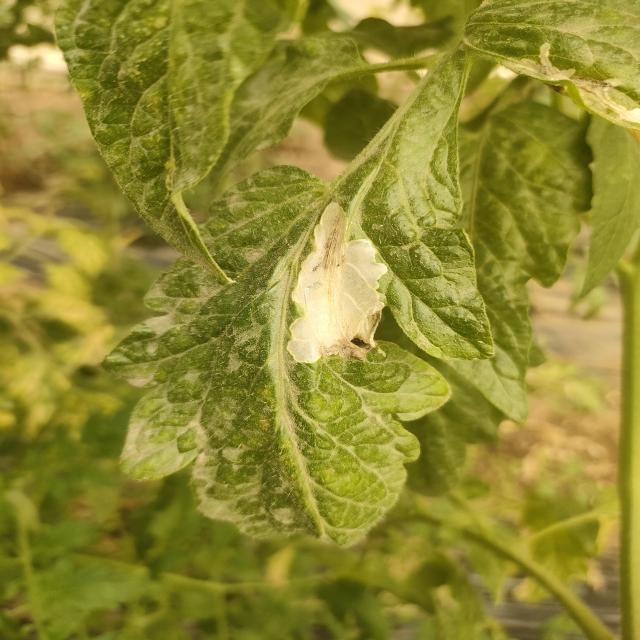Tuta absoluta: (284, 198, 399, 374)
